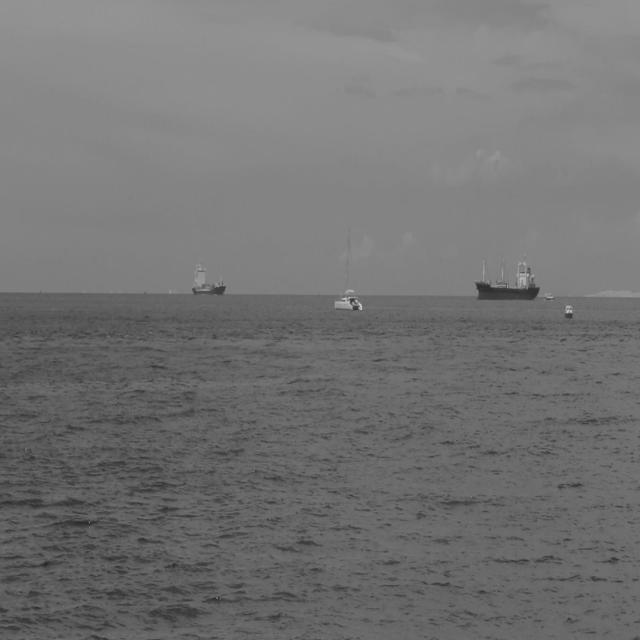ship: (472, 250, 541, 302), (333, 222, 364, 314), (190, 260, 228, 298), (562, 302, 574, 321), (544, 291, 555, 301)
